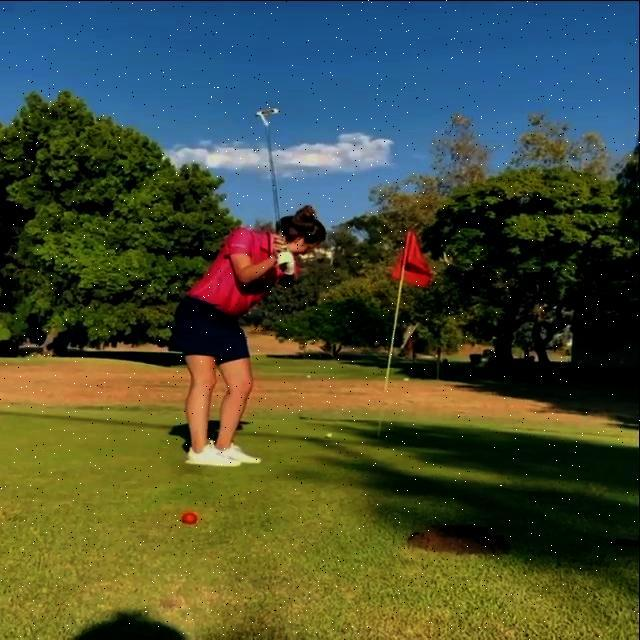ClubHandle: (256, 109, 286, 271)
ClubHead: (257, 109, 279, 119)
GolfBall: (325, 433, 332, 438)
